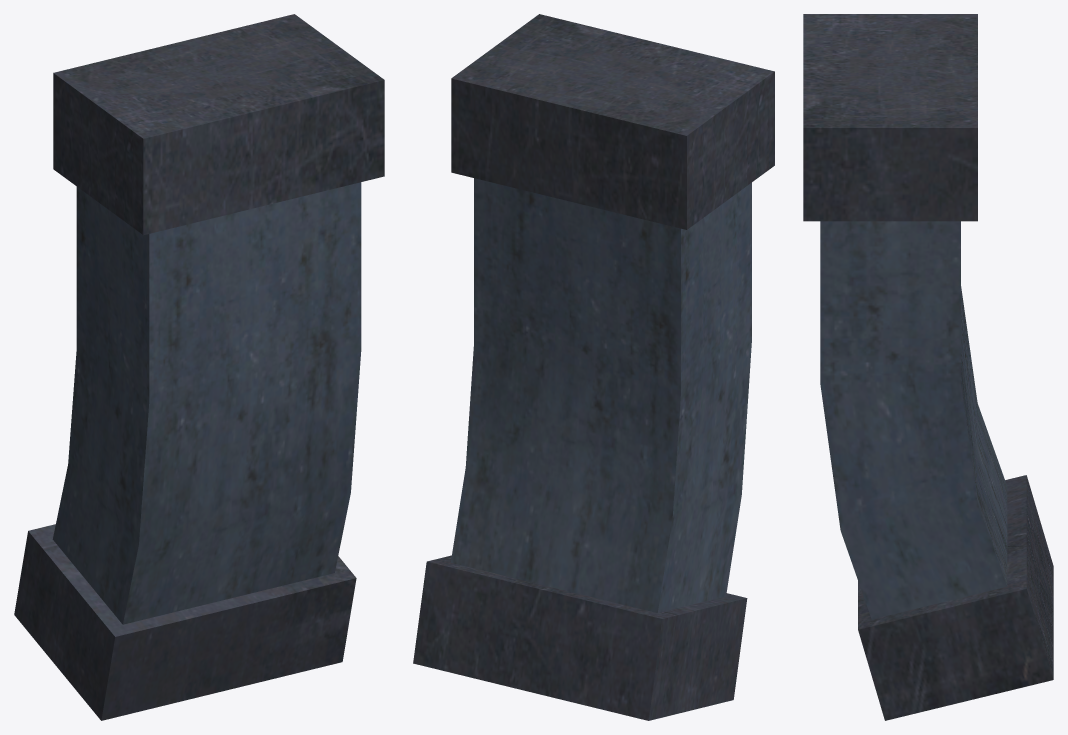
The model's file is Prop_Sg05.glb.
3 renders of one model, left to right at view 1: azimuth 30°, elevation 25°; view 2: azimuth 150°, elevation 25°; view 3: azimuth 270°, elevation 25°, orthographic. The views are drawn at different scales.
Parts seen in each view (by area): view 1: xiutz_sg05; view 2: xiutz_sg05; view 3: xiutz_sg05.
Boxes of the visible parts, left/top/right/bottom form: xiutz_sg05: left=14, top=14, right=384, bottom=720; xiutz_sg05: left=413, top=14, right=774, bottom=720; xiutz_sg05: left=803, top=14, right=1053, bottom=720.
Size of the model in its own units: 0.2963 by 0.7191 by 0.275.
Materials: 1 (1 with a texture image).
